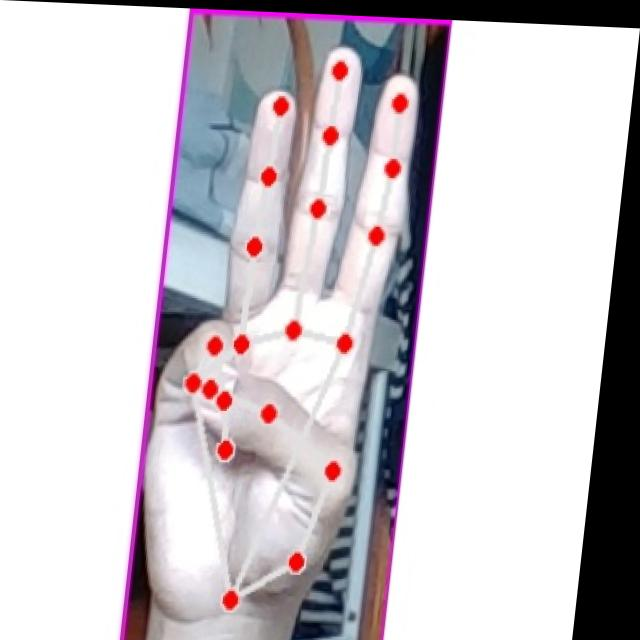W: (151, 35, 435, 619)
